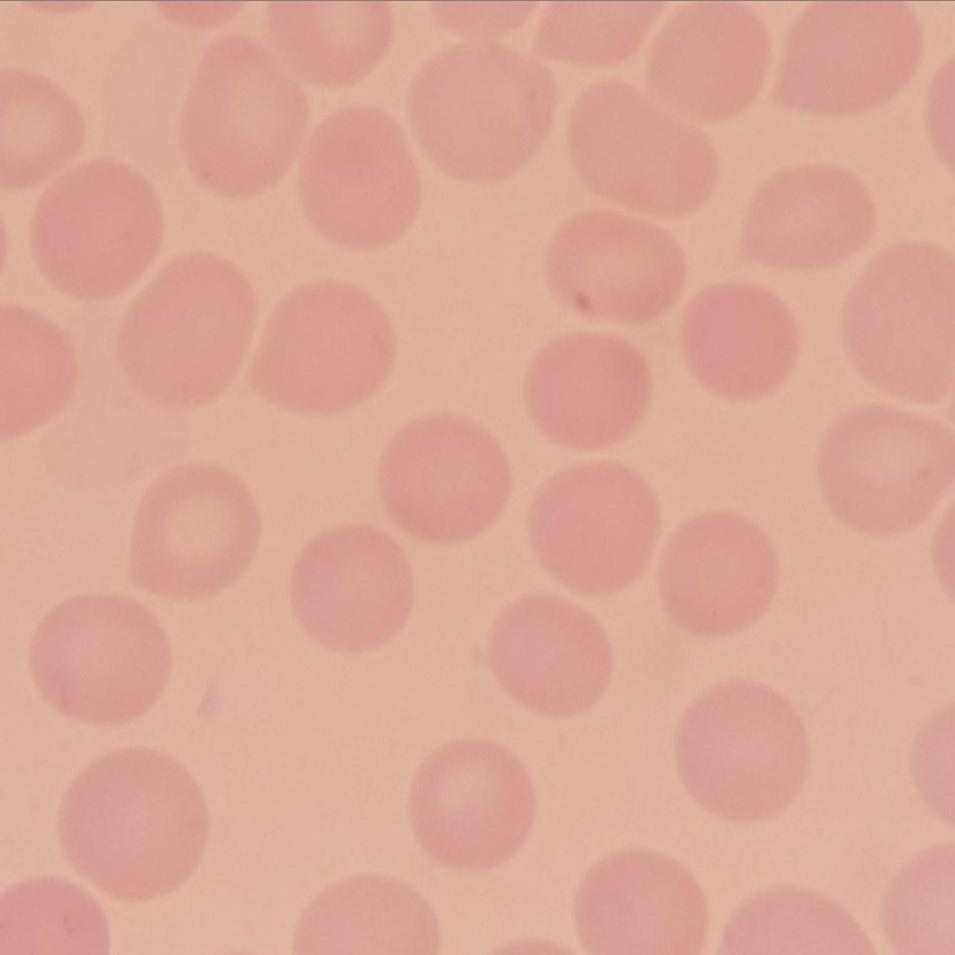Uninfected: (57, 748, 214, 901), (116, 253, 263, 414), (404, 42, 557, 185), (178, 36, 311, 198), (252, 278, 401, 419), (564, 85, 717, 222), (32, 593, 174, 731), (128, 461, 262, 606), (675, 678, 814, 817), (295, 106, 426, 251), (840, 241, 955, 406), (33, 160, 164, 300), (378, 411, 512, 545), (410, 733, 538, 872), (527, 463, 661, 595), (773, 2, 921, 119), (815, 406, 949, 535), (544, 208, 689, 327), (485, 593, 609, 727), (293, 521, 416, 654), (641, 4, 775, 125), (522, 331, 654, 447), (657, 511, 778, 637), (740, 162, 874, 273), (679, 280, 800, 402), (574, 847, 708, 948), (268, 0, 409, 88), (290, 874, 435, 951)
